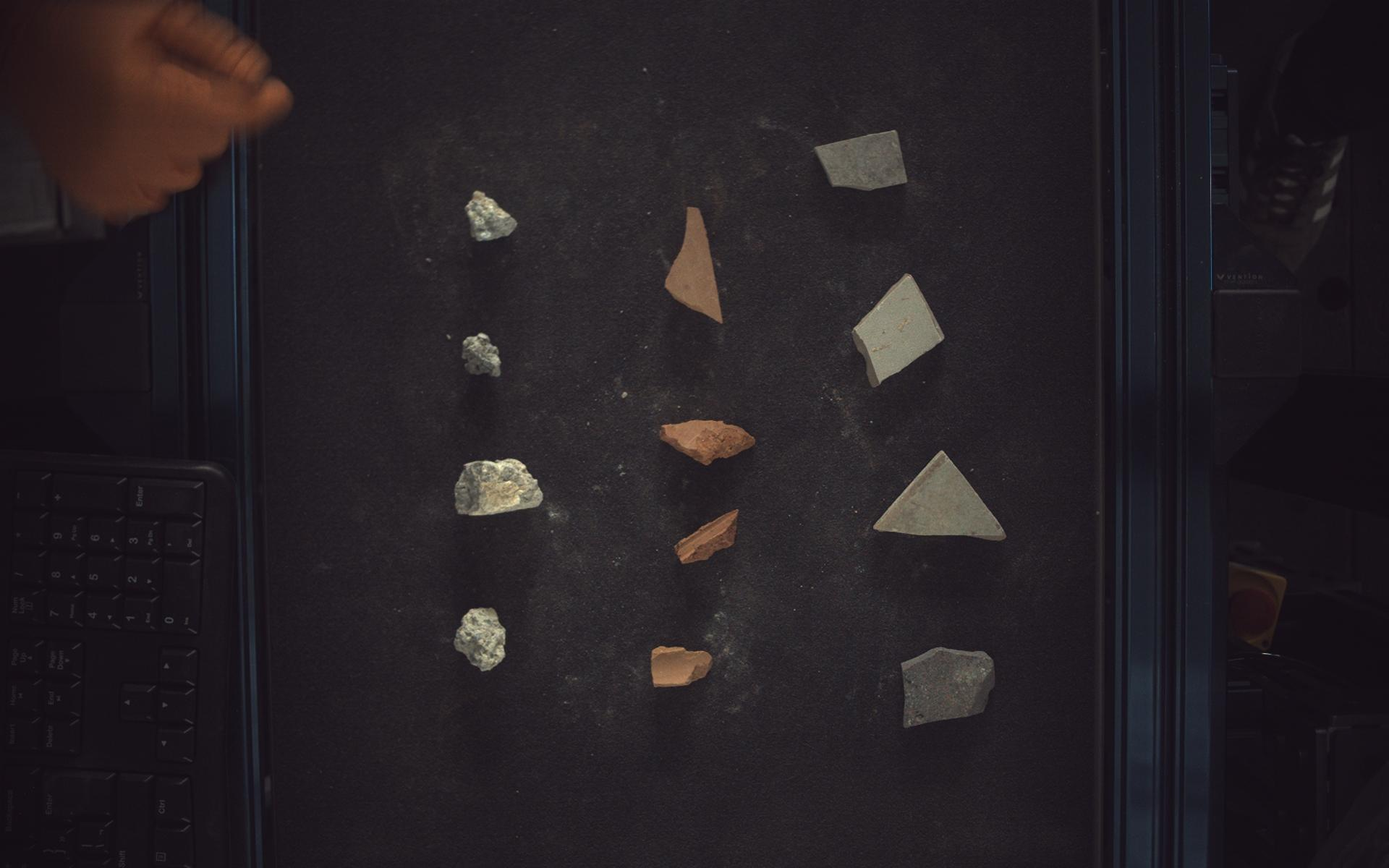brick: (666, 206, 724, 323), (660, 420, 757, 465), (676, 510, 740, 564), (652, 647, 713, 689)
concrete: (455, 459, 543, 516), (454, 609, 506, 672), (466, 190, 517, 241), (462, 333, 501, 378)
tile: (875, 451, 1008, 541), (854, 273, 946, 387), (903, 648, 997, 729), (817, 129, 909, 190)
